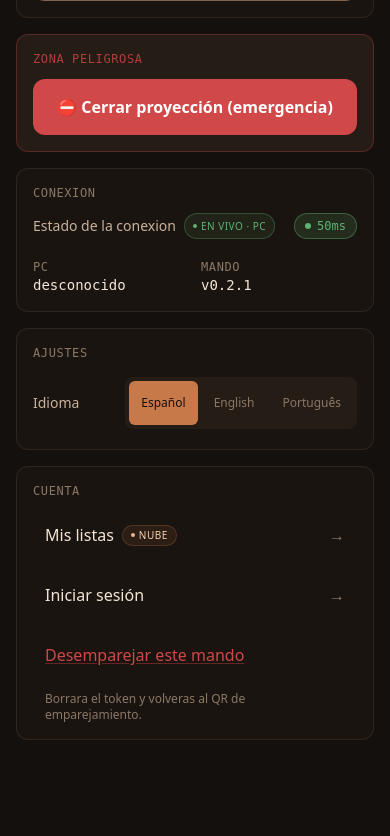
Scenario: 8. boton Desemparejar → abre ConfirmModal → cancelar → no acciona y cierra
The image size is (390, 836).
(page scrolled)
Click the button with aria-label "desemparejar este mando del pc": [195, 655] box [33,631,357,679]
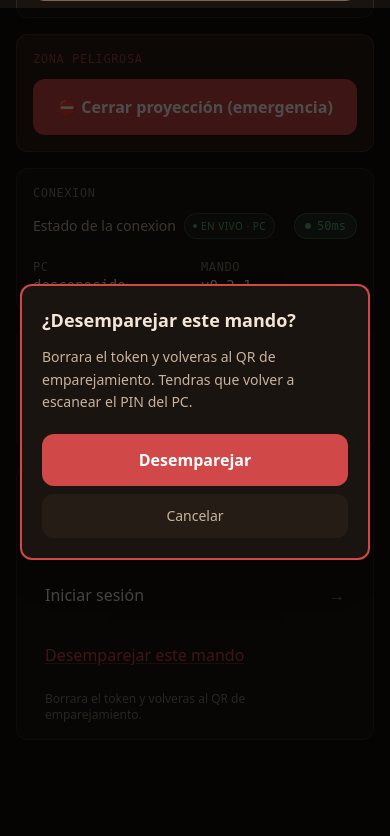
Expected: the dialog is shown, [20,284,370,560]
Click the button "Cancelar": [195, 516] box [42,494,348,538]
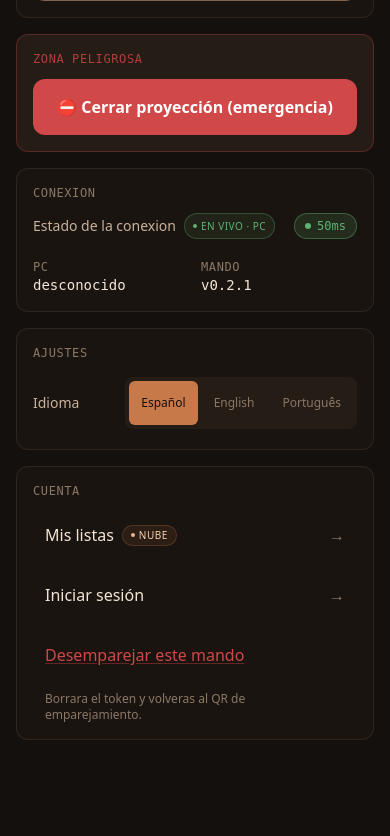
Expected: the dialog is gone
